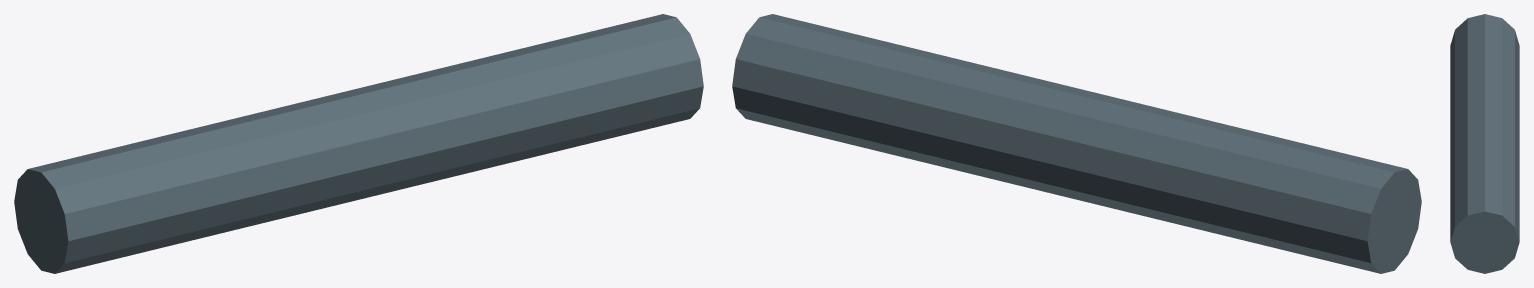
File: SM_Factory_Small_pipe_3m.glb
3 views of the same model, side by side, from view 1: azimuth 30°, elevation 25°; view 2: azimuth 150°, elevation 25°; view 3: azimuth 270°, elevation 25° (orthographic). The views are drawn at different scales.
Parts seen in each view (by area): view 1: SM_Factory_Small_pipe_3m; view 2: SM_Factory_Small_pipe_3m; view 3: SM_Factory_Small_pipe_3m.
Part boxes in pixels (x1=…): SM_Factory_Small_pipe_3m: x1=14, y1=14, x2=703, y2=273; SM_Factory_Small_pipe_3m: x1=732, y1=14, x2=1421, y2=273; SM_Factory_Small_pipe_3m: x1=1450, y1=14, x2=1519, y2=273.
Size of the model in its own units: 3 by 0.4433 by 0.4433.
Materials: 1 (1 with a texture image).
